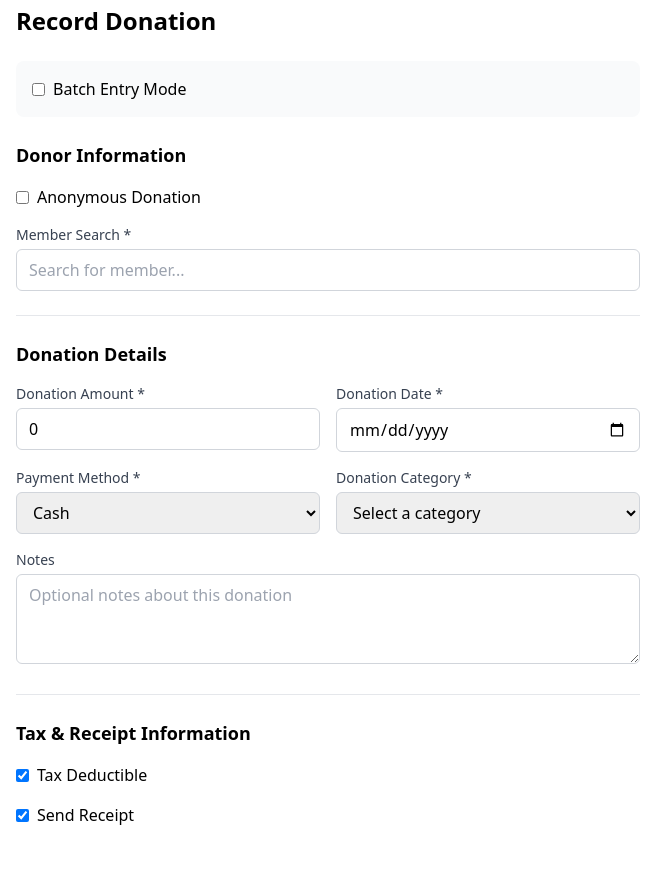
DonationForm › Batch Mode Functionality › should show batch entry fields when batch mode is enabled
Step 1. Click the checkbox labelled "Batch Entry Mode" → (38,89), box left=32, top=82, right=45, bottom=96
(page scrolled)
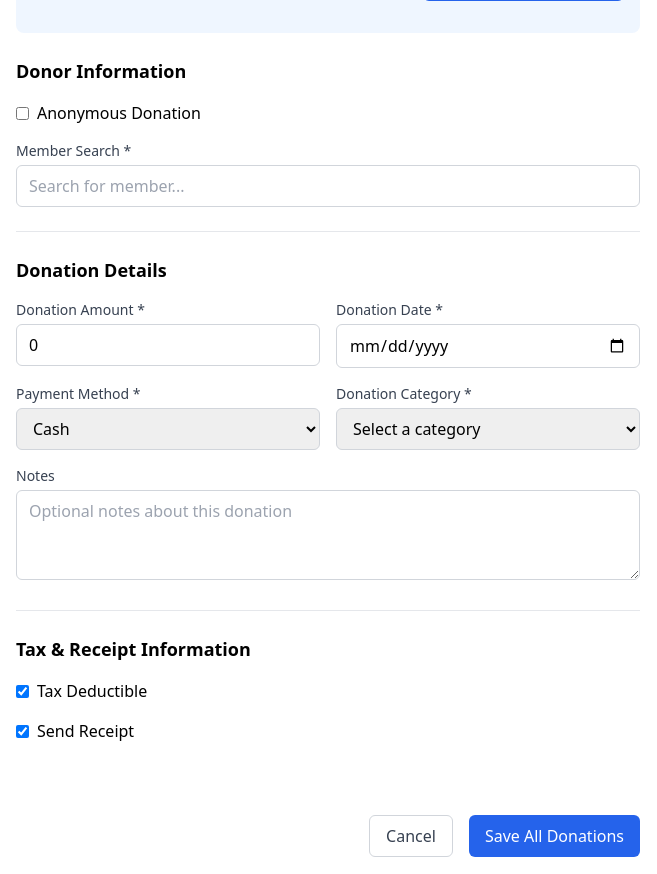
Expected: the button "Save All Donations" is shown, left=469, top=815, right=640, bottom=857
